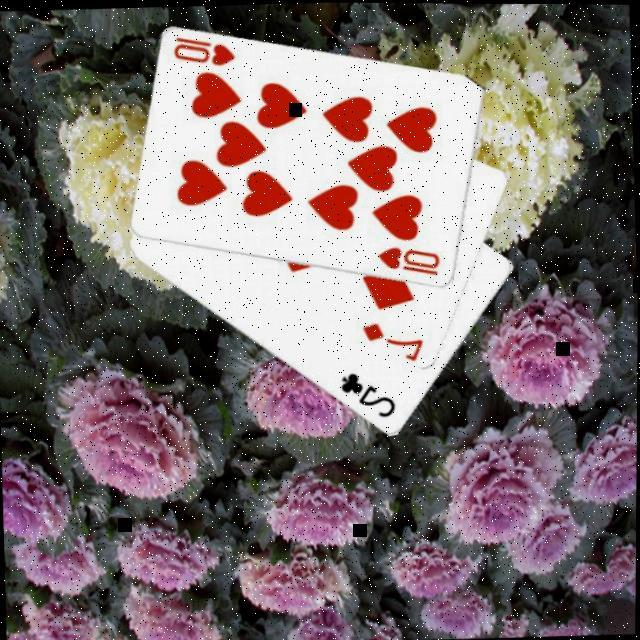10H: (169, 33, 237, 72), (373, 244, 442, 282)
2C: (334, 369, 398, 424)
7D: (358, 318, 426, 364)
